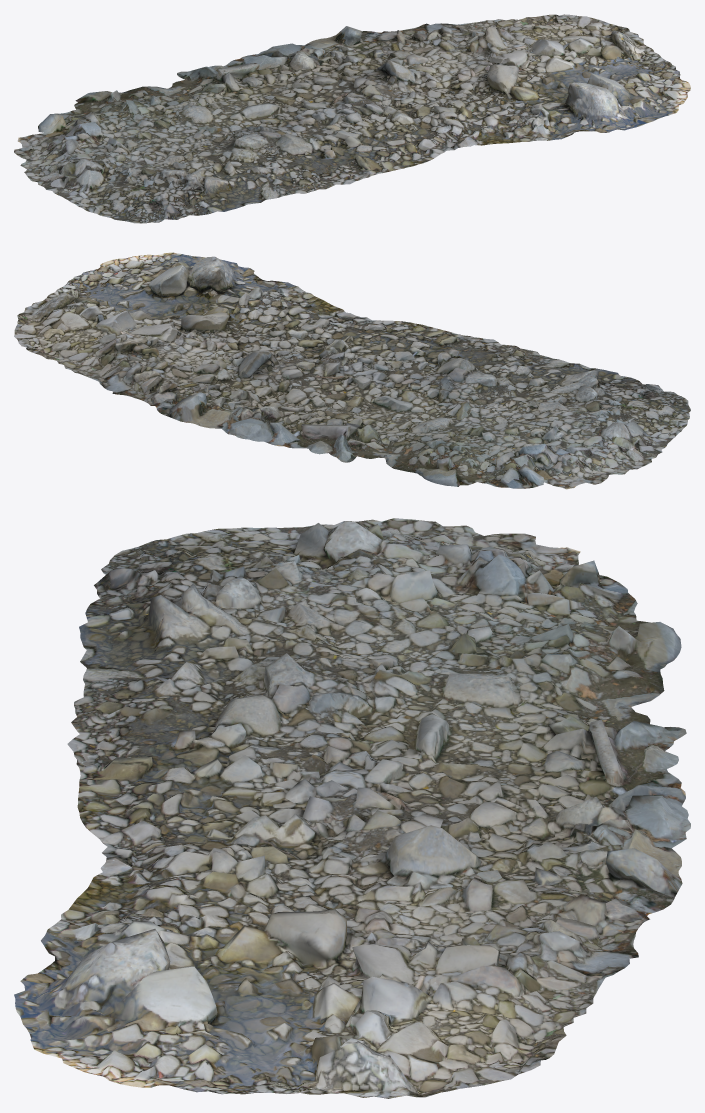
Rendered from SM_Cobble_02_01.fbx.
3 renders of one model, top to bottom at view 1: azimuth 30°, elevation 25°; view 2: azimuth 150°, elevation 25°; view 3: azimuth 270°, elevation 25°, orthographic. The views are drawn at different scales.
Visible parts, largest first — view 1: sm_Cobble_02_01_LOD0; view 2: sm_Cobble_02_01_LOD0; view 3: sm_Cobble_02_01_LOD0.
Boxes of the visible parts, x1,y1,x2,y2 form: sm_Cobble_02_01_LOD0: [14, 14, 690, 223]; sm_Cobble_02_01_LOD0: [14, 252, 690, 489]; sm_Cobble_02_01_LOD0: [14, 518, 690, 1098].
Bounding box in the file's own units: 229 × 465 × 22.01.
